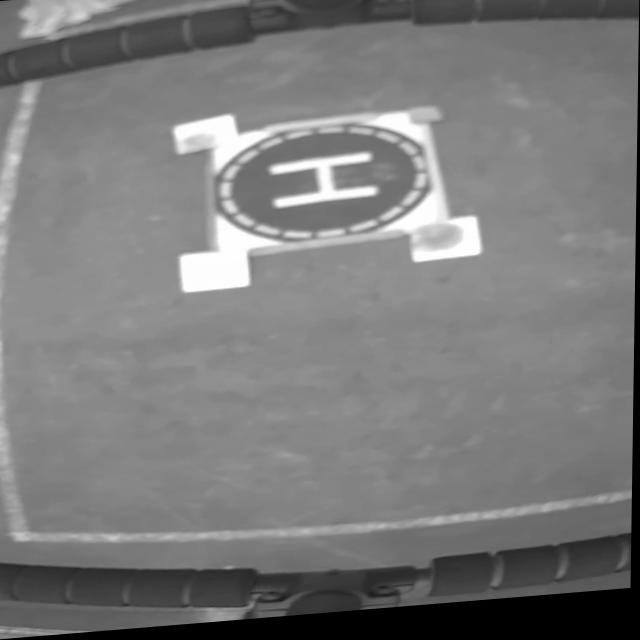Helipad: (269, 156, 383, 213)
